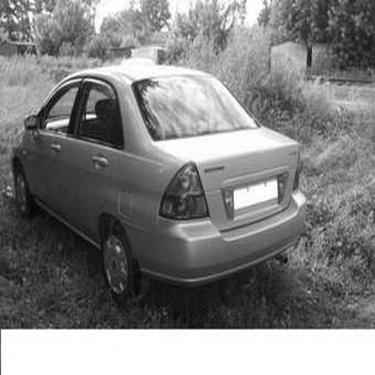car: (11, 44, 326, 303)
